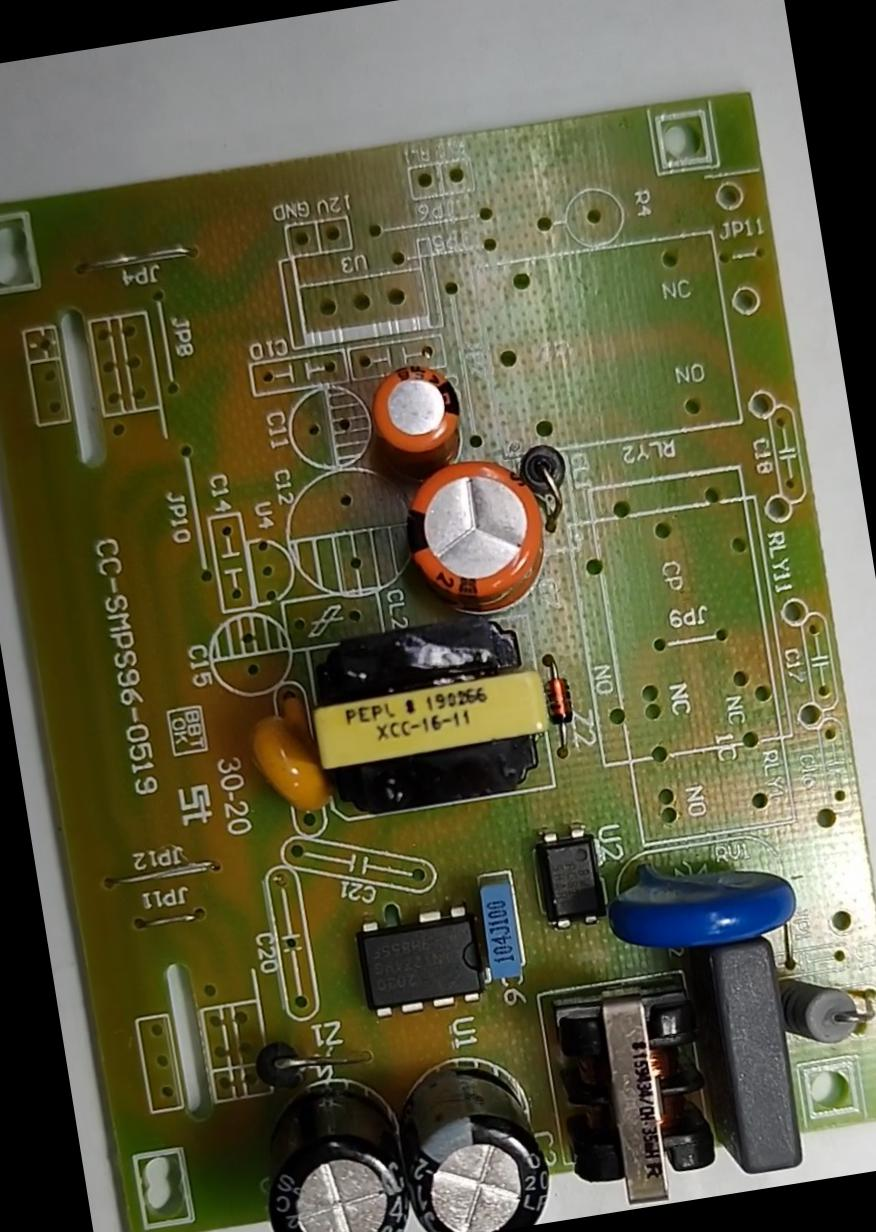Cap1: (373, 444, 566, 631)
Cap2: (351, 350, 480, 482)
Cap3: (378, 1030, 567, 1231)
Cap4: (233, 1053, 434, 1231)
MOSFET: (334, 886, 506, 1032)
Mov: (589, 828, 808, 966)
Resistor: (772, 956, 875, 1063)
Transformer: (281, 596, 567, 826), (538, 971, 732, 1218)
